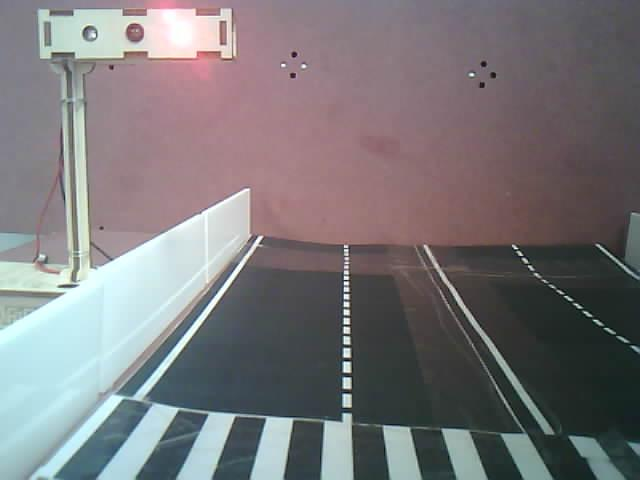crosswalk: (21, 409, 640, 477)
red: (33, 8, 265, 246)
